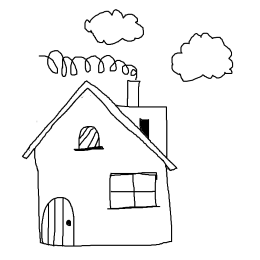closed_window: (102, 167, 161, 214)
clouds: (167, 28, 237, 84), (80, 6, 148, 49)
door: (36, 191, 82, 249)
roof: (22, 79, 178, 171)
smoking_chimney: (27, 46, 152, 111)
wall: (30, 88, 173, 251)
